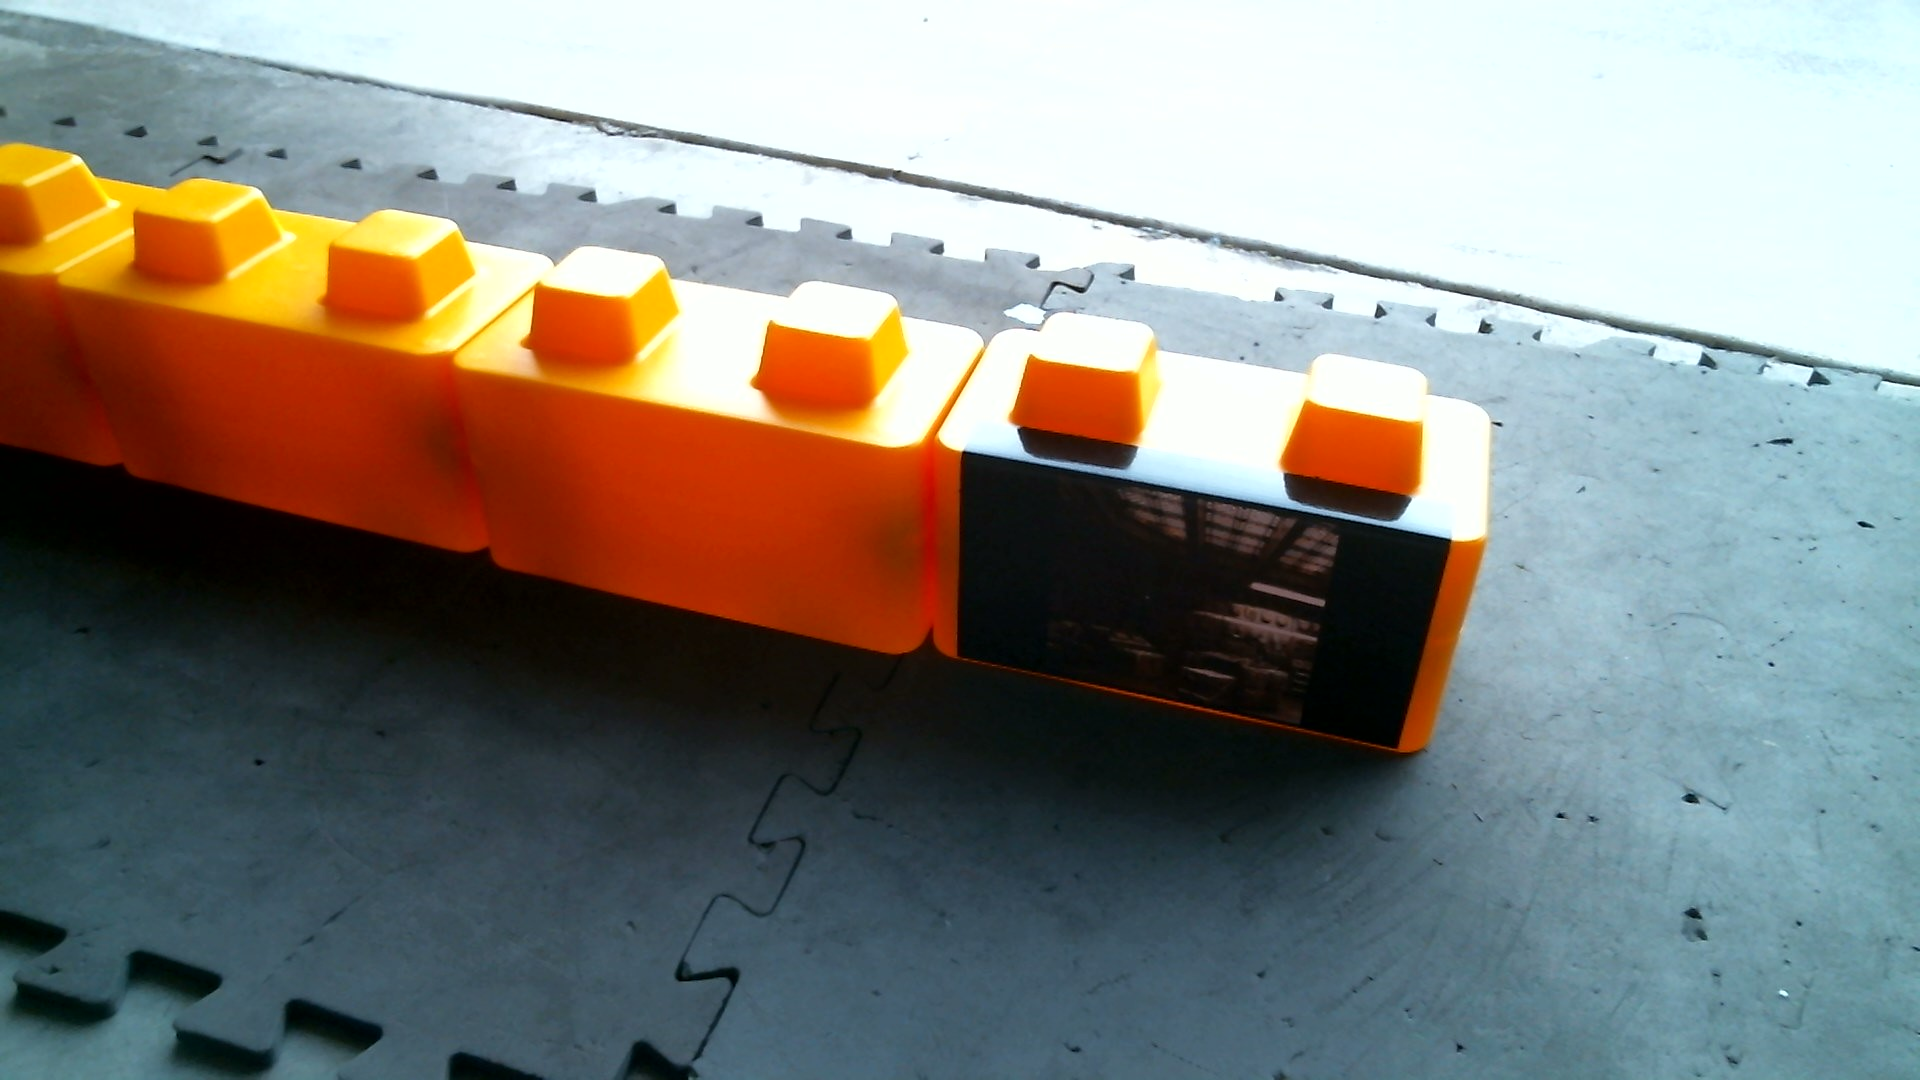right: (42, 160, 1514, 775)
